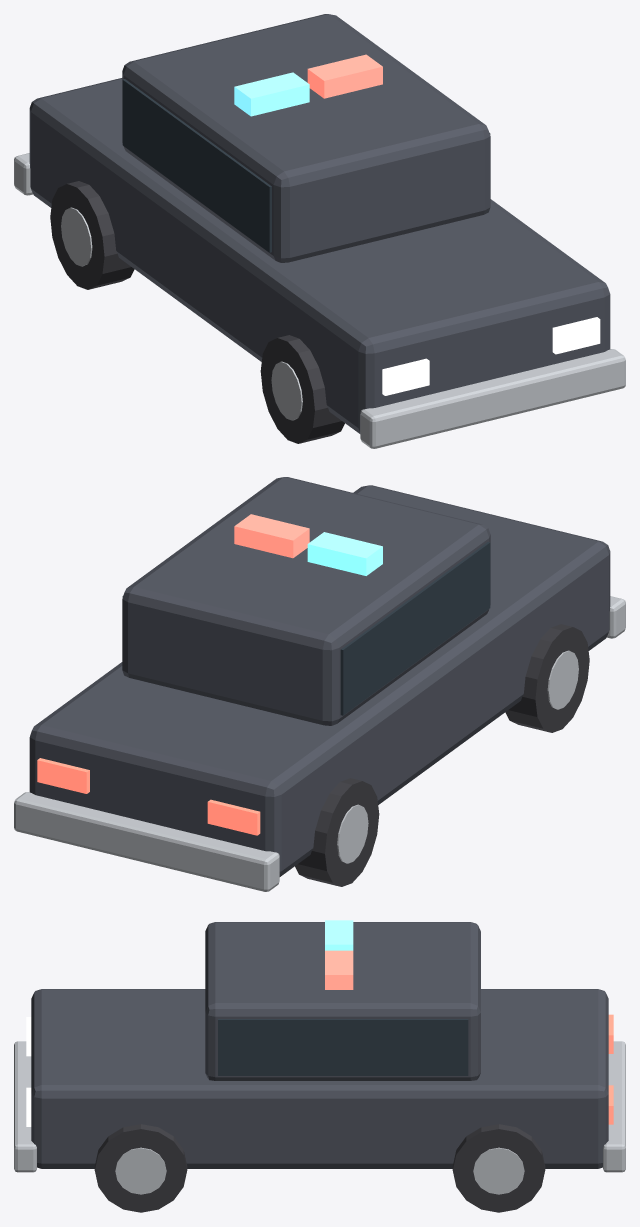
Rendered from car_police.glb.
3 views of the same model, one above another, from view 1: azimuth 30°, elevation 25°; view 2: azimuth 150°, elevation 25°; view 3: azimuth 270°, elevation 25° (orthographic). The views are drawn at different scales.
Parts seen in each view (by area): view 1: Chassis, Cabin, BumperF, Windows, Wheel_-1_-1, Wheel_-1_1, BarL, BarR, Rim_-1_-1, Rim_-1_1, LightFR, LightFL (+1 smaller); view 2: Chassis, Cabin, BumperR, Windows, Wheel_-1_1, Wheel_-1_-1, BarL, BarR, Rim_-1_1, Rim_-1_-1, LightRL, LightRR (+1 smaller); view 3: Chassis, Cabin, Windows, Wheel_1_-1, Wheel_1_1, BumperR, BumperF, Rim_1_-1, Rim_1_1, BarR, BarL.
Boxes of the visible parts, x1,y1,x2,y2 form: Chassis: (29,78,610,433); Cabin: (122,14,490,262); BumperF: (360,349,625,448); Windows: (122,79,490,252); Wheel_-1_-1: (260,335,344,443); Wheel_-1_1: (50,181,134,289); BarL: (234,72,309,116); BarR: (307,54,382,98); Rim_-1_-1: (271,361,302,420); Rim_-1_1: (61,207,92,266); LightFR: (552,317,600,354); LightFL: (382,358,429,395); Chassis: (29,485,610,876); Cabin: (122,477,490,725); BumperR: (14,792,279,891); Windows: (122,542,490,715); Wheel_-1_1: (295,778,379,886); Wheel_-1_-1: (505,624,589,732); BarL: (307,532,382,575); BarR: (234,514,309,558); Rim_-1_1: (337,804,368,863); Rim_-1_-1: (547,650,578,709); LightRL: (207,799,260,835); LightRR: (37,758,89,793); Chassis: (31,989,608,1168); Cabin: (205,922,480,1080); Windows: (218,1019,468,1075); Wheel_1_-1: (94,1124,187,1212); Wheel_1_1: (452,1124,545,1212); BumperR: (603,1041,625,1172); BumperF: (14,1041,36,1172); Rim_1_-1: (115,1147,166,1194); Rim_1_1: (473,1147,524,1194); BarR: (325,950,353,989); BarL: (325,920,353,950).
Size of what is drawn, in the model's own units: 2.12 by 1.79 by 4.77.
